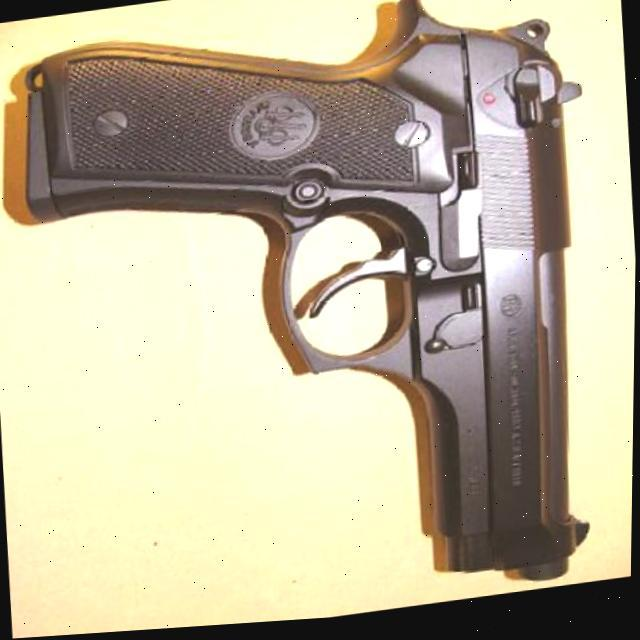gun: (12, 0, 618, 639)
